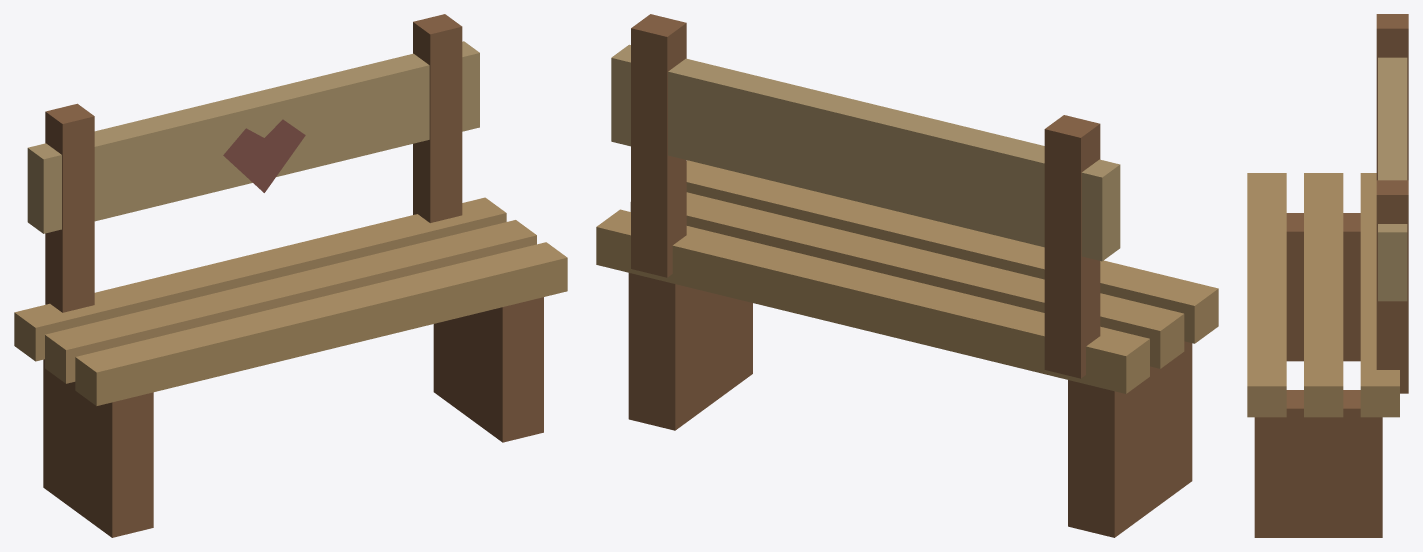
The model's file is map-exclusive-v3__village_03.glb.
The picture shows the model from 3 angles, left to right: view 1: azimuth 30°, elevation 25°; view 2: azimuth 150°, elevation 25°; view 3: azimuth 270°, elevation 25°; orthographic projection. The views are drawn at different scales.
Parts seen in each view (by area): view 1: village_03; view 2: village_03; view 3: village_03.
Boxes of the visible parts, <box> form: village_03: <box>14,14,567,537</box>; village_03: <box>596,14,1218,537</box>; village_03: <box>1247,14,1408,537</box>.
Bounding box in the file's own units: 2.05 × 1.51 × 0.6551.
